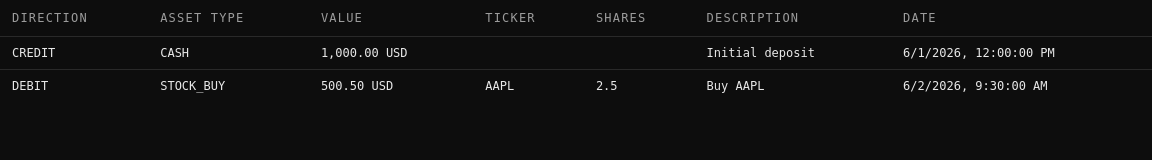
Scenario: TransactionTable › TransactionTable - sort Date header - cycles ascending then descending then unsorted
The image size is (1152, 160).
# First click: ascending
What coordinates should you click on to do the following:
click the column heading "Date"
I would click on:
 (920, 18)
Its box is [891,0,1151,36].
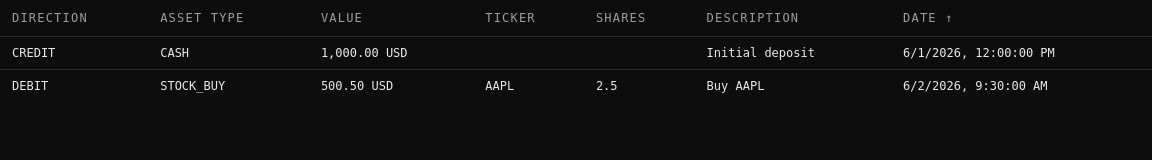
Result: the column heading "Date ↑" is shown
# Second click: descending
What coordinates should you click on to do the following:
click the column heading "Date ↑"
I would click on:
 (920, 18)
Its box is [891,0,1151,36].
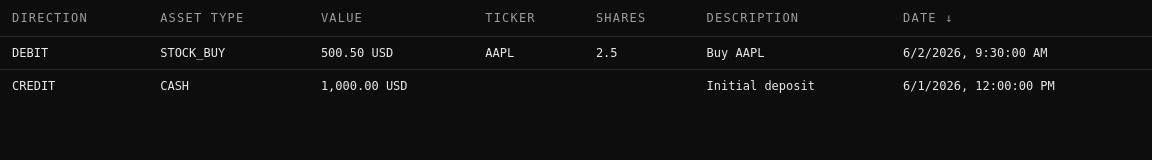
# Third click: unsorted (back to none)
What coordinates should you click on to do the following:
click the column heading "Date ↓"
I would click on:
 (920, 18)
Its box is [891,0,1151,36].
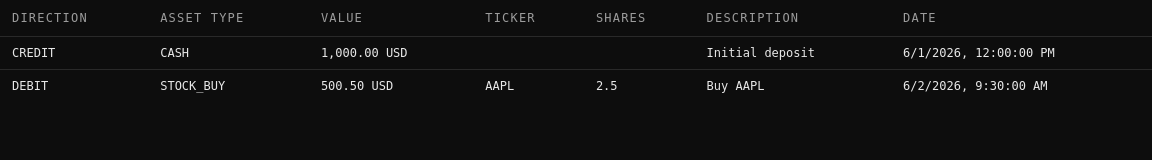
Result: the column heading "Date" is shown at [891,0,1151,36]
